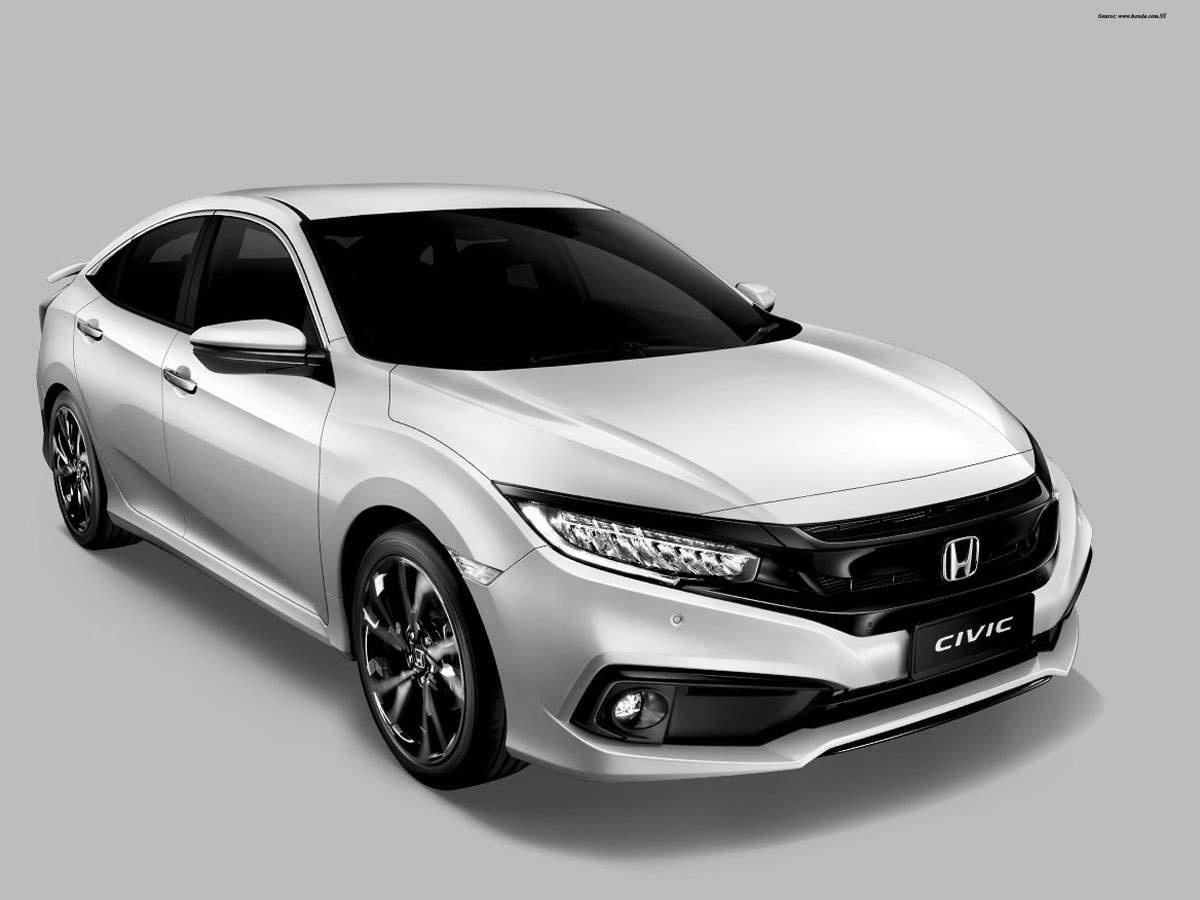Car hood: (383, 323, 1042, 530)
Driver-s door - -F-R-: (173, 193, 333, 619)
Fender - -F-R-: (318, 323, 551, 655)
Fender - -R-R-: (44, 312, 108, 530)
Front bumper: (493, 540, 1112, 796)
Headlight - -R-: (488, 465, 767, 598)
Passenger-s door - -R-R-: (63, 200, 190, 537)
Rear bumper: (20, 380, 74, 471)
Rear light - -L-: (18, 280, 62, 323)
Side bumper - -R-: (88, 488, 356, 682)
Side mirror - -L-: (725, 265, 794, 317)
Side mirror - -R-: (183, 308, 337, 385)
